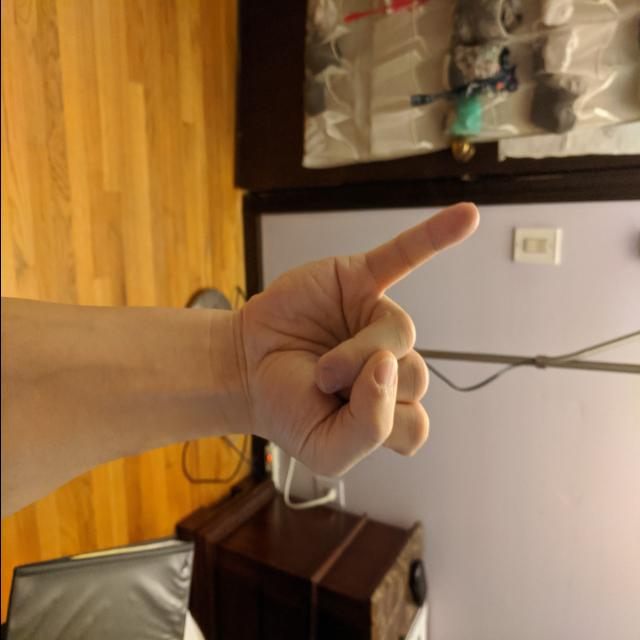I: (230, 195, 485, 488)
